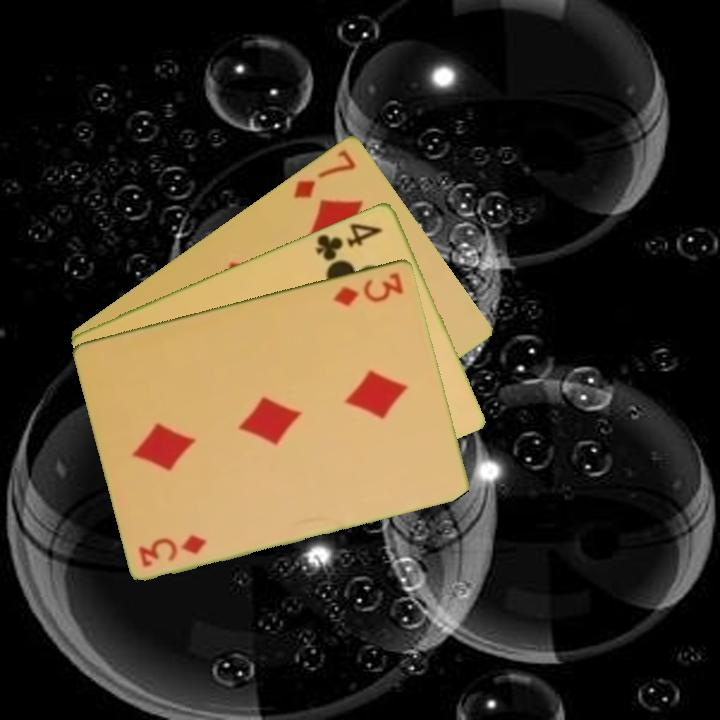3d: (330, 268, 407, 310), (135, 530, 210, 569)
4c: (312, 218, 385, 264)
7d: (289, 145, 359, 201)
